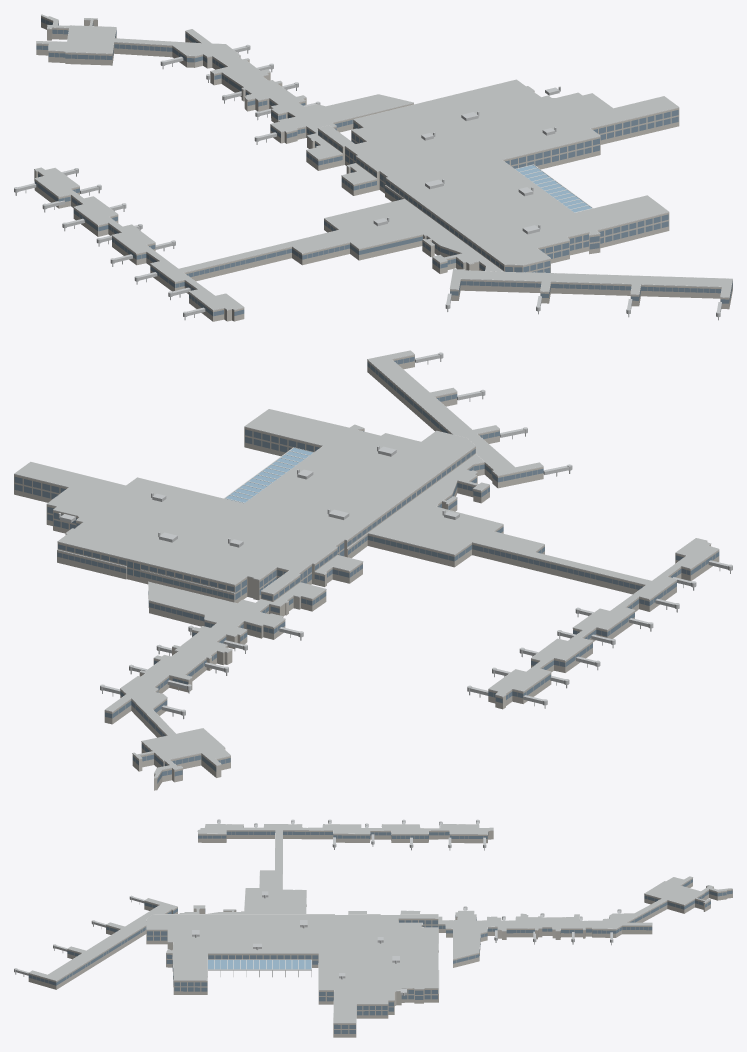
The model's file is london-heathrow-terminal-3.detail.glb.
The picture shows the model from 3 angles, top to bottom: view 1: azimuth 30°, elevation 25°; view 2: azimuth 150°, elevation 25°; view 3: azimuth 270°, elevation 25°; orthographic projection. The views are drawn at different scales.
Parts seen in each view (by area): view 1: Heathrow Terminal 3; view 2: Heathrow Terminal 3; view 3: Heathrow Terminal 3.
Boxes of the visible parts, x1,y1,x2,y2 form: Heathrow Terminal 3: [14, 14, 732, 321]; Heathrow Terminal 3: [14, 350, 732, 790]; Heathrow Terminal 3: [14, 819, 732, 1037].
Size of the model in its own units: 653 by 25.5 by 934.
